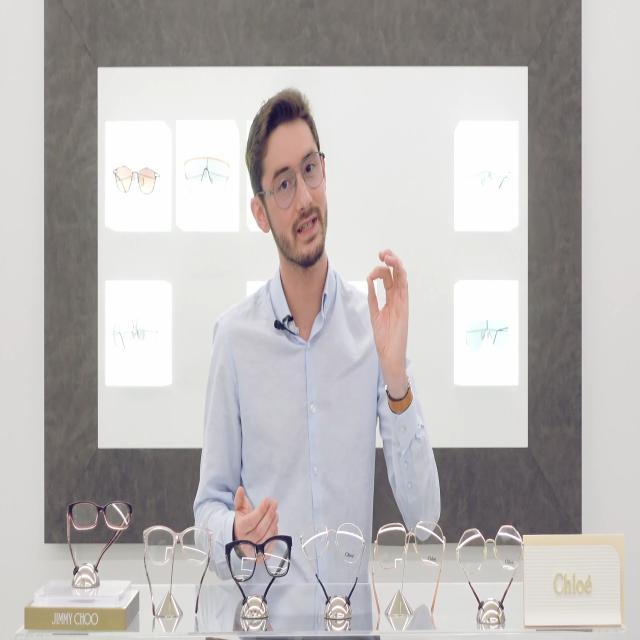dress: (194, 261, 441, 582)
glasses: (266, 151, 326, 209)
